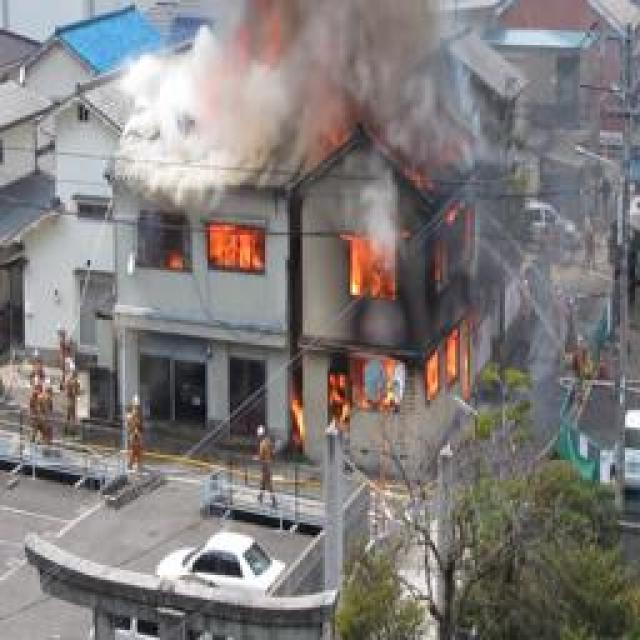Fire: (325, 197, 484, 431), (160, 230, 277, 275)
